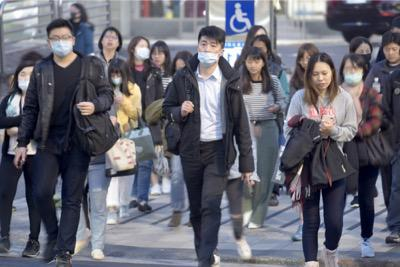mask_weared_incorrect: (197, 40, 219, 67), (341, 63, 364, 88), (15, 70, 34, 91)
with_mask: (48, 33, 73, 59), (132, 43, 151, 63), (353, 47, 373, 65), (109, 73, 122, 87)
without_mask: (310, 68, 332, 91), (381, 45, 399, 64), (100, 33, 119, 51), (150, 50, 167, 67), (245, 58, 263, 74), (298, 55, 313, 71)
